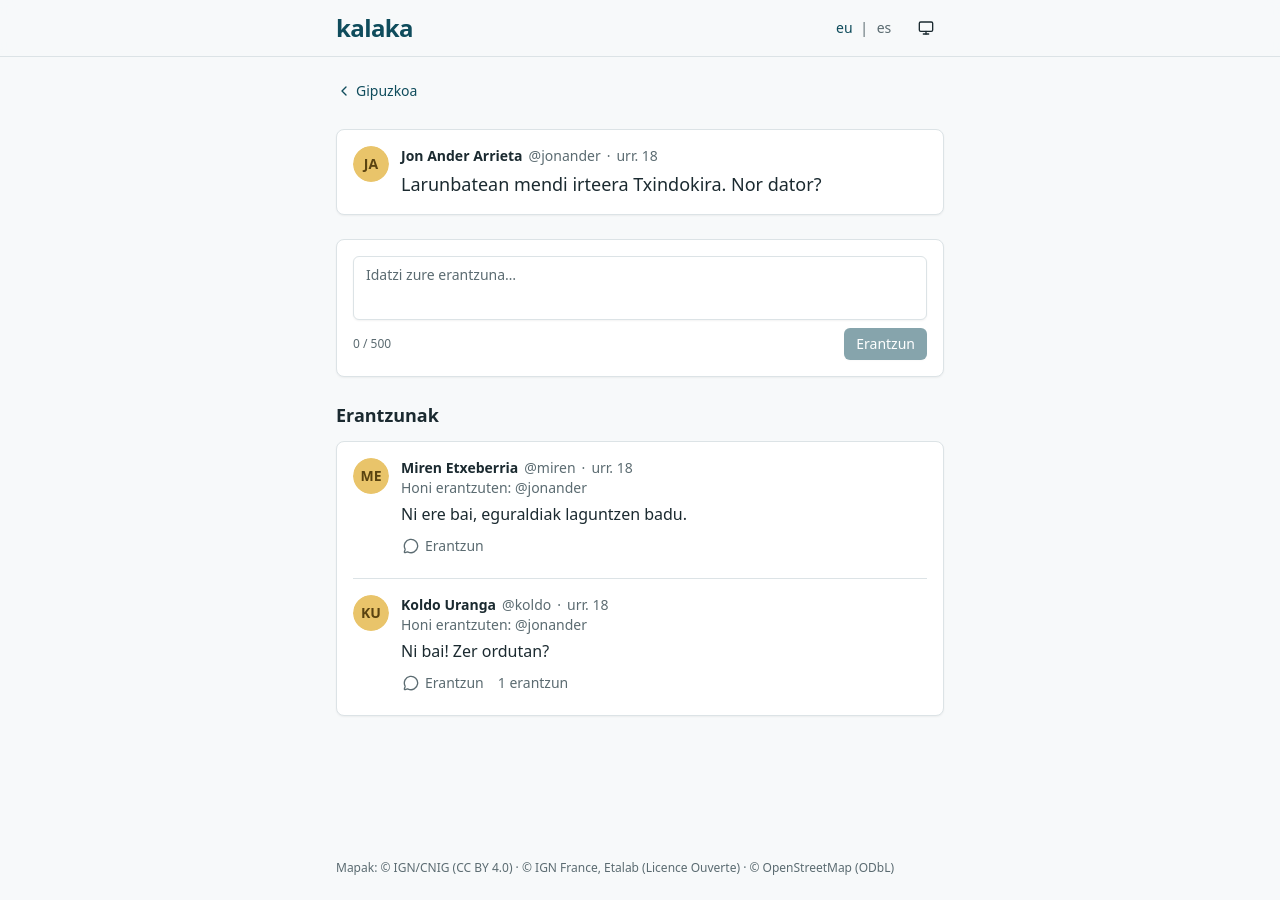
it: post page › goes deeper: a reply opens its own page, which links back to its parent
Click the link "Ni bai! Zer ordutan?".
click(475, 651)  # box [401,640,549,662]
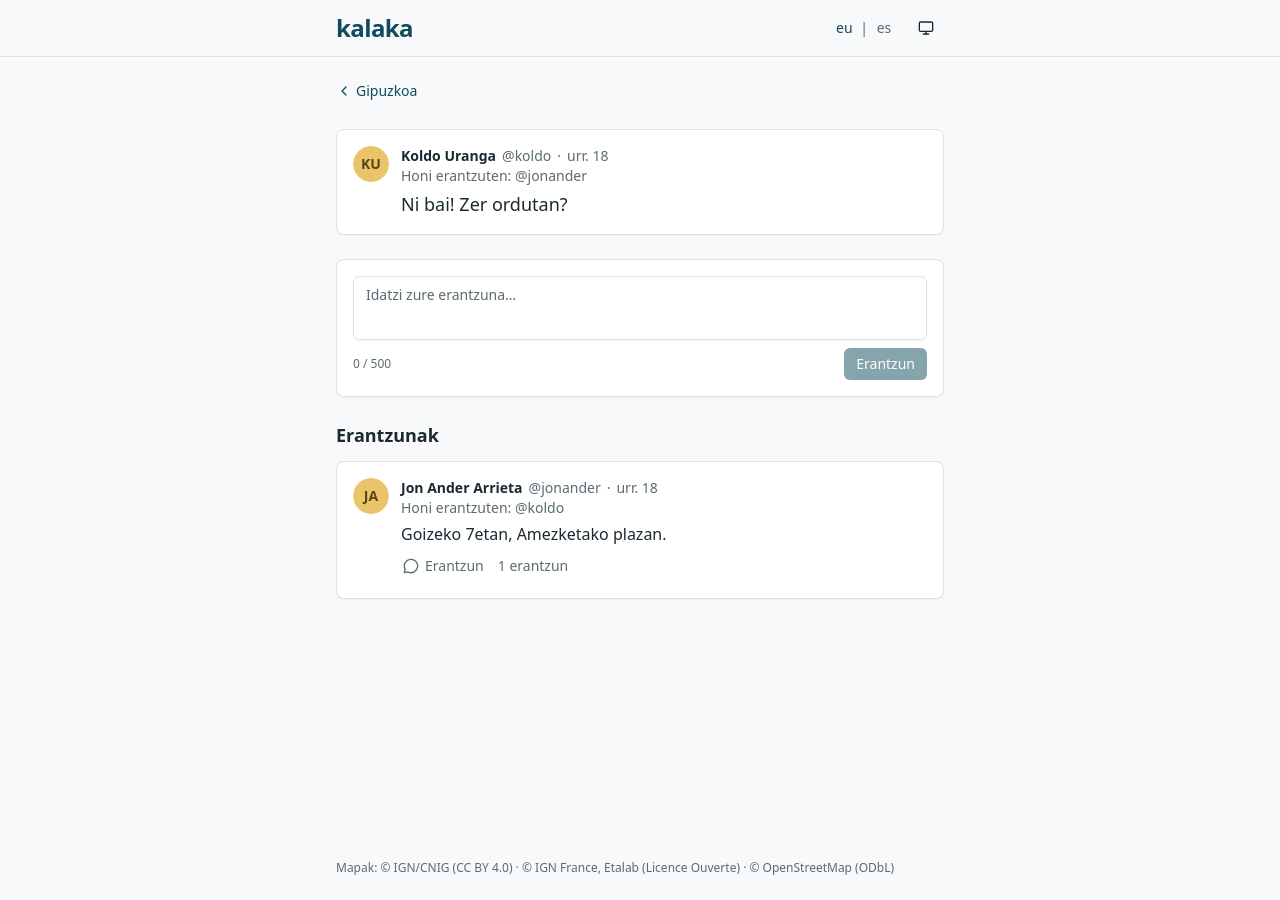
expect the text "Goizeko 7etan, Amezketako plazan." is shown: met, box [401,523,666,545]
